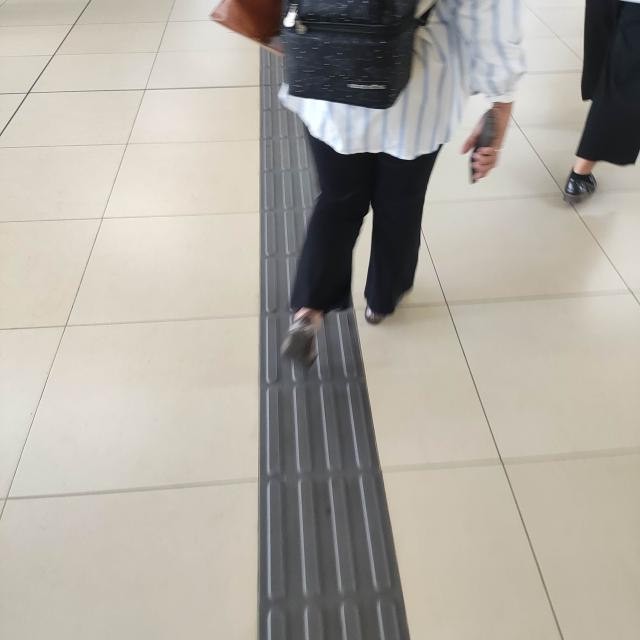lurus: (262, 384, 404, 640)
